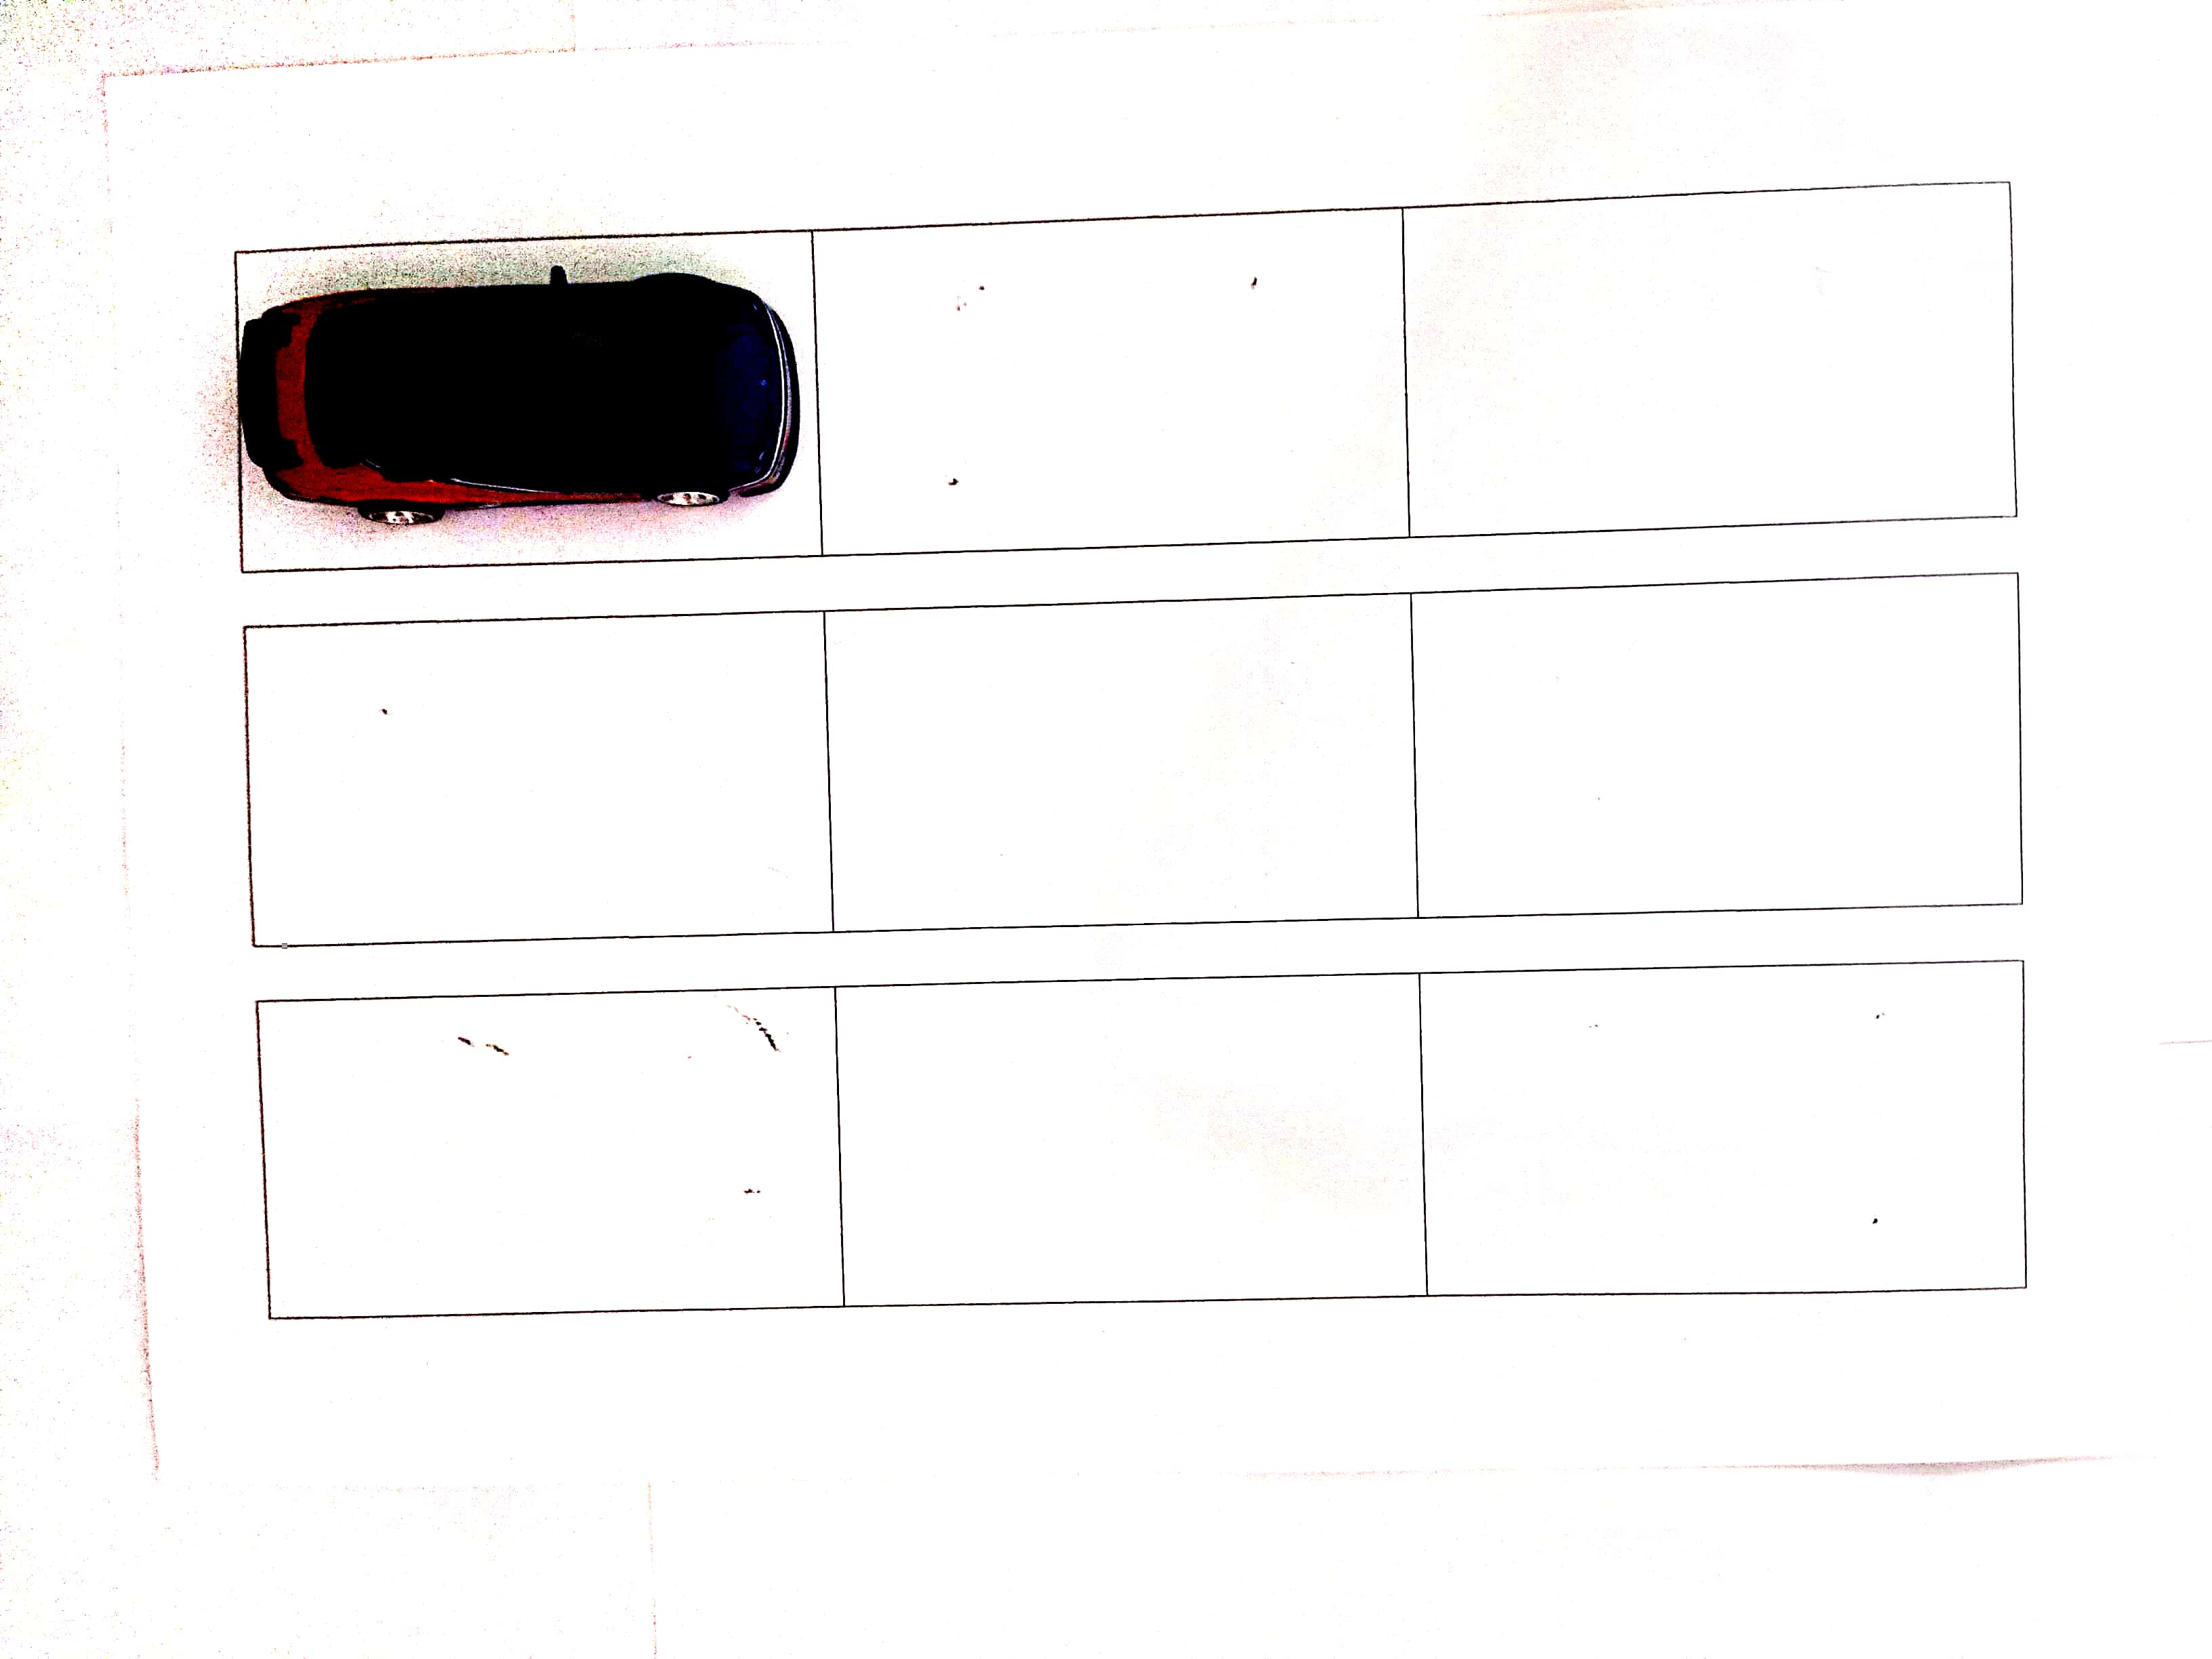Busy: (242, 230, 813, 580)
Free: (1407, 179, 2022, 526), (822, 206, 1407, 551), (1432, 962, 2022, 1293), (1418, 589, 2013, 913), (846, 976, 1421, 1302), (253, 626, 834, 946), (833, 606, 1407, 924), (258, 992, 840, 1298)
